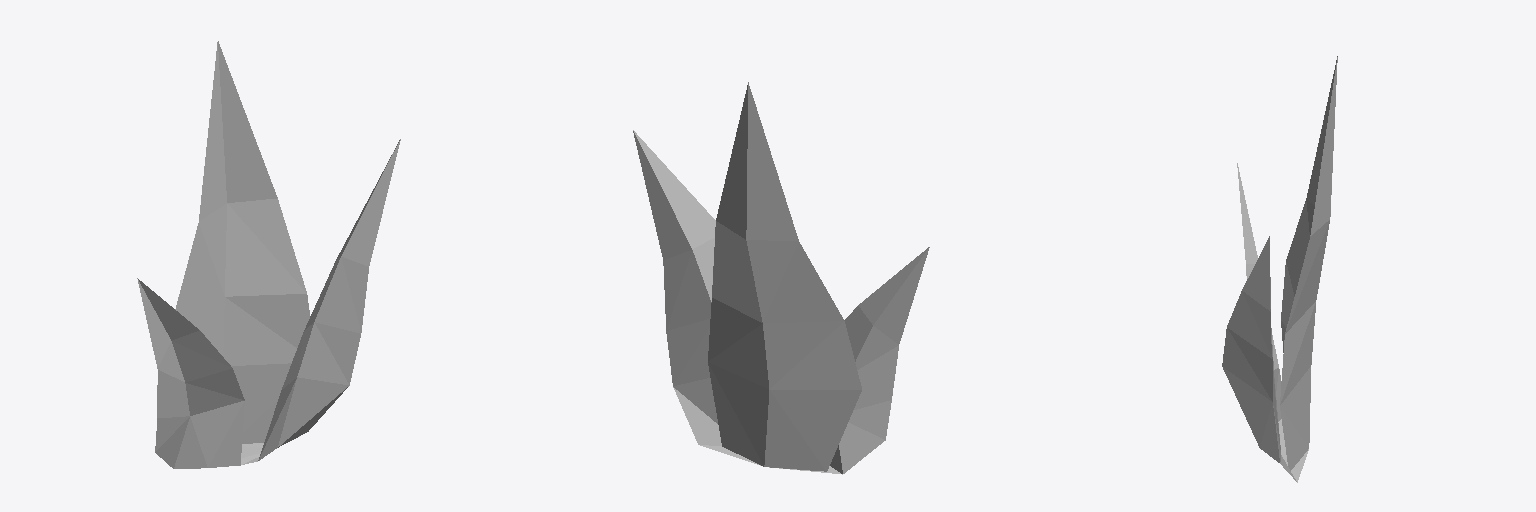
The model's file is grass_blade_group_01.obj.
The picture shows the model from 3 angles: view 1: azimuth 30°, elevation 25°; view 2: azimuth 150°, elevation 25°; view 3: azimuth 270°, elevation 25°; orthographic projection.
Parts seen in each view (by area): view 1: Plane.001; view 2: Plane.001; view 3: Plane.001.
Part boxes in pixels (x1,y1,x2,y2): Plane.001: (137, 41, 400, 468); Plane.001: (633, 82, 929, 474); Plane.001: (1222, 56, 1337, 482).
Size of the model in its own units: 1.48 by 1.99 by 0.5277.